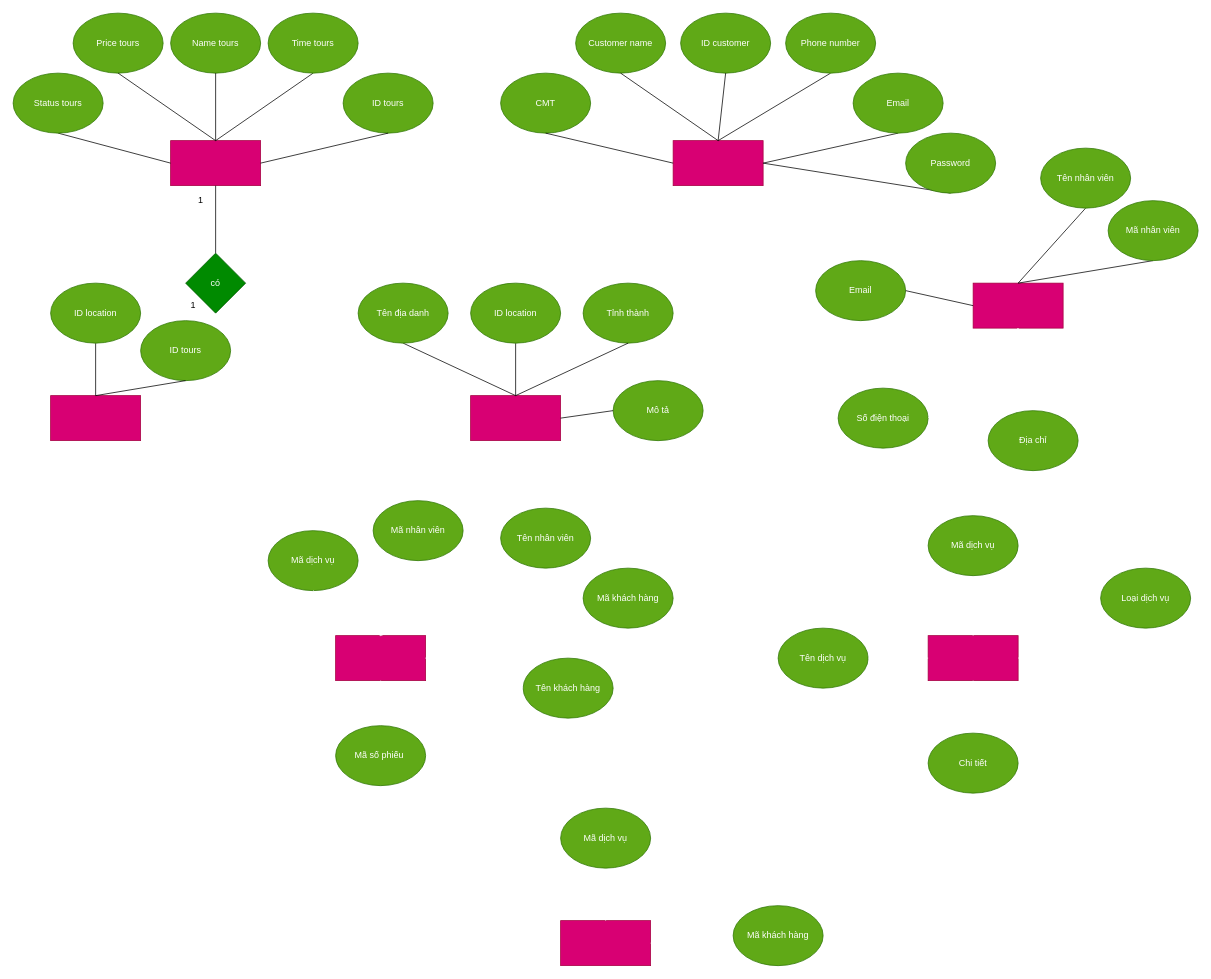
The diagram is 1211 pixels wide and 979 high, and some of its shapes have lost their labels. Each missing label, with the centre of its shape:
Dịch vụ: (x=972, y=658)
Khách hàng: (x=717, y=163)
Khách hàng_dịch vụ: (x=605, y=943)
Nhân viên: (x=1017, y=305)
Phiếu đặt tours: (x=380, y=658)
Tours: (x=215, y=163)
Tours_địa danh: (x=95, y=418)
Địa danh: (x=515, y=418)
